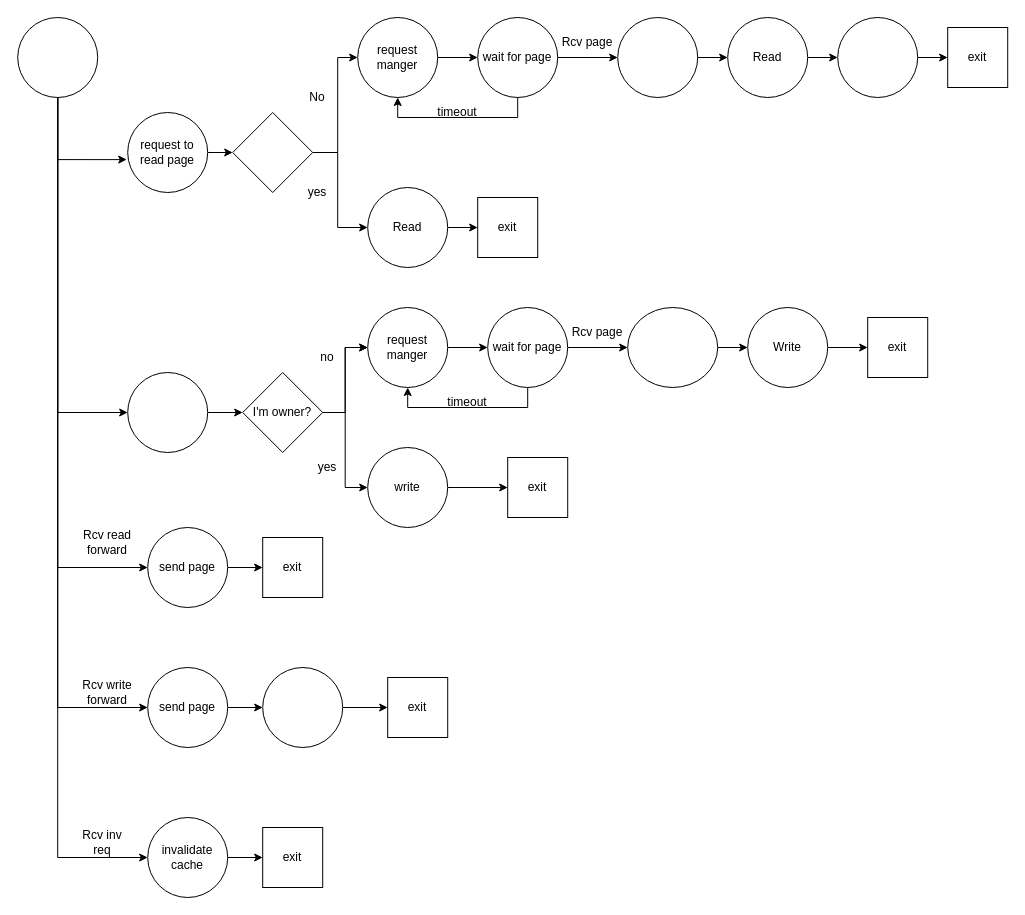
Image size: 1025x915. Some labels were removed from this diagram. The shapes that lost their labels are listed below. From the top down, each one's box as (x1, y1, x2, y2) in pixels, then its label:
(17, 16, 98, 98): idle
(617, 16, 698, 98): cache page, mark access as read
(837, 16, 918, 98): Confirm to manager
(232, 112, 313, 192): found in local?
(627, 306, 718, 388): cache page, mark access as RW(owner)
(127, 372, 208, 452): request to write page
(262, 666, 343, 748): mark access as nil
